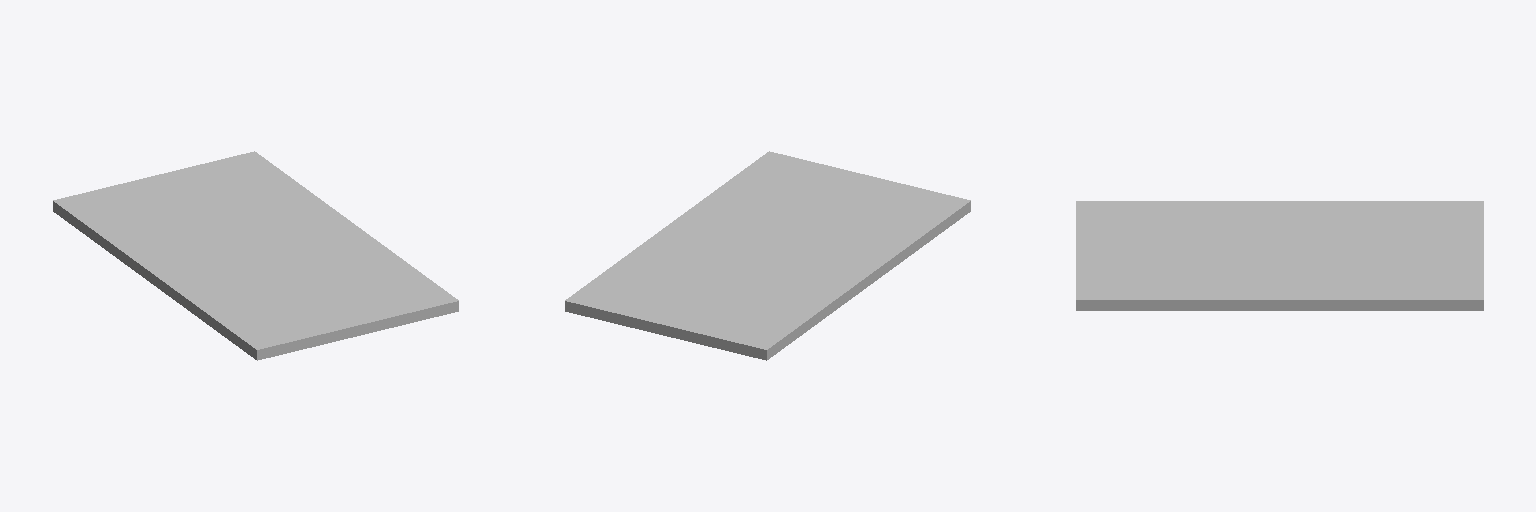
Rendered from Hallway Carpet.obj.
3 views of the same model, side by side, from view 1: azimuth 30°, elevation 25°; view 2: azimuth 150°, elevation 25°; view 3: azimuth 270°, elevation 25° (orthographic).
Visible parts, largest first — view 1: object 1; view 2: object 1; view 3: object 1.
Boxes of the visible parts, <box> form: object 1: <box>53,151,458,360</box>; object 1: <box>565,151,970,360</box>; object 1: <box>1076,201,1483,310</box>.
Size of the model in its own units: 4 by 0.2 by 7.